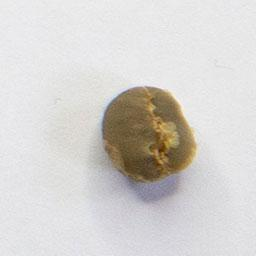peaberry: (98, 82, 201, 184)
